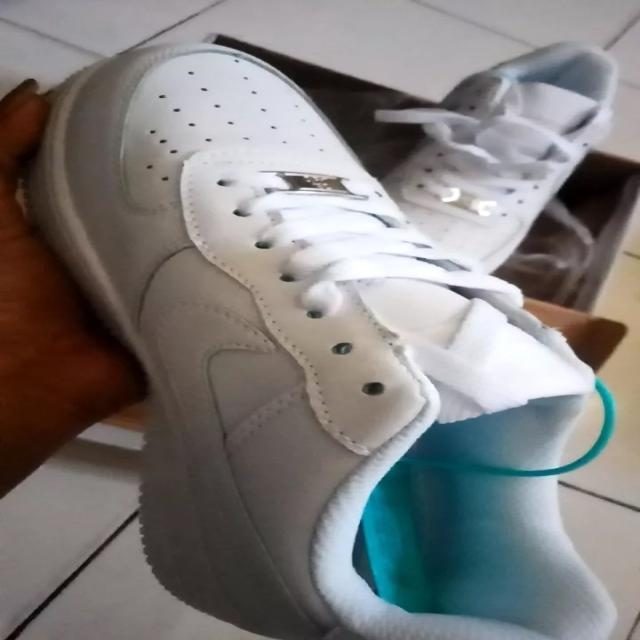nike fake air force: (0, 43, 620, 640)
